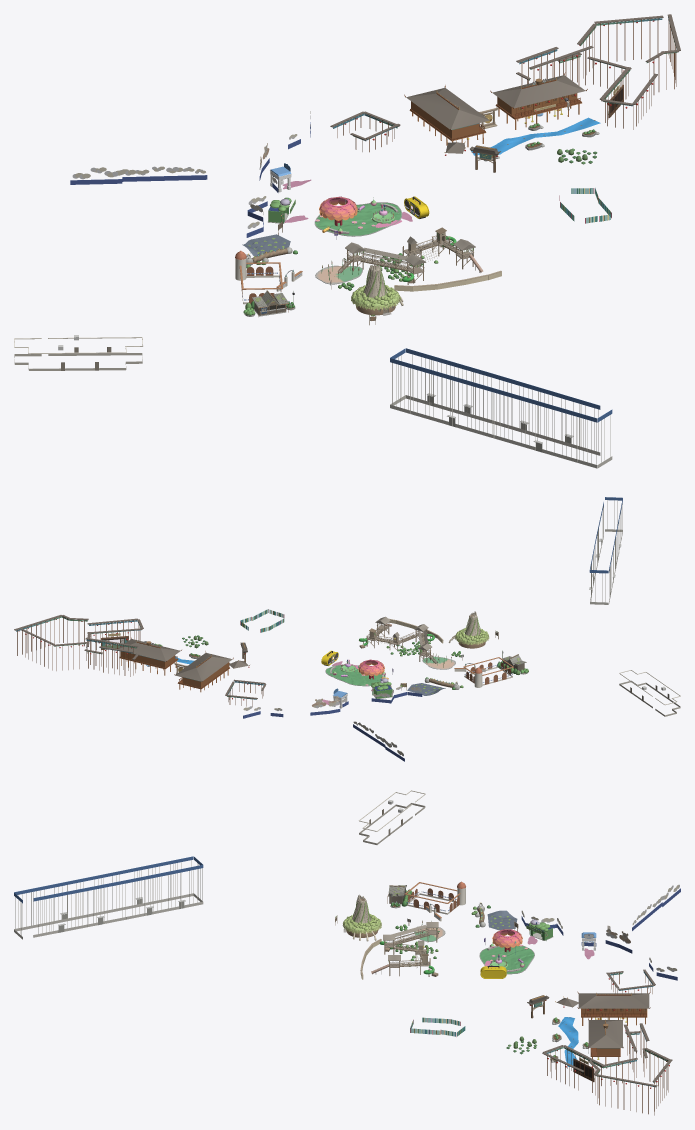
The model's file is dreamworks-play.glb.
3 renders of one model, top to bottom at view 1: azimuth 30°, elevation 25°; view 2: azimuth 150°, elevation 25°; view 3: azimuth 270°, elevation 25°, orthographic. The views are drawn at different scales.
Visible parts, largest first — view 1: dreamworks-play-paint, dreamworks-play-concrete, dreamworks-play-rubber, dreamworks-play-gloss, dreamworks-play-plant, dreamworks-play-metal; view 2: dreamworks-play-paint, dreamworks-play-concrete, dreamworks-play-plant, dreamworks-play-gloss, dreamworks-play-rubber, dreamworks-play-metal; view 3: dreamworks-play-paint, dreamworks-play-concrete, dreamworks-play-rubber, dreamworks-play-plant, dreamworks-play-gloss, dreamworks-play-metal.
Part boxes in pixels (x1,y1,x2,y2): dreamworks-play-paint: [61, 14, 680, 464]; dreamworks-play-concrete: [14, 125, 612, 468]; dreamworks-play-rubber: [315, 117, 600, 283]; dreamworks-play-gloss: [246, 97, 581, 281]; dreamworks-play-plant: [243, 123, 597, 315]; dreamworks-play-metal: [58, 82, 595, 462]; dreamworks-play-paint: [14, 497, 669, 761]; dreamworks-play-concrete: [154, 529, 680, 716]; dreamworks-play-plant: [155, 618, 528, 689]; dreamworks-play-gloss: [120, 624, 457, 692]; dreamworks-play-rubber: [175, 656, 455, 685]; dreamworks-play-metal: [152, 508, 665, 697]; dreamworks-play-paint: [14, 809, 680, 1115]; dreamworks-play-concrete: [14, 790, 595, 1062]; dreamworks-play-rubber: [415, 927, 578, 1066]; dreamworks-play-plant: [342, 885, 588, 1060]; dreamworks-play-gloss: [371, 902, 647, 1064]; dreamworks-play-metal: [31, 800, 596, 1060].
Size of the model in its own units: 223 by 13.34 by 201.
